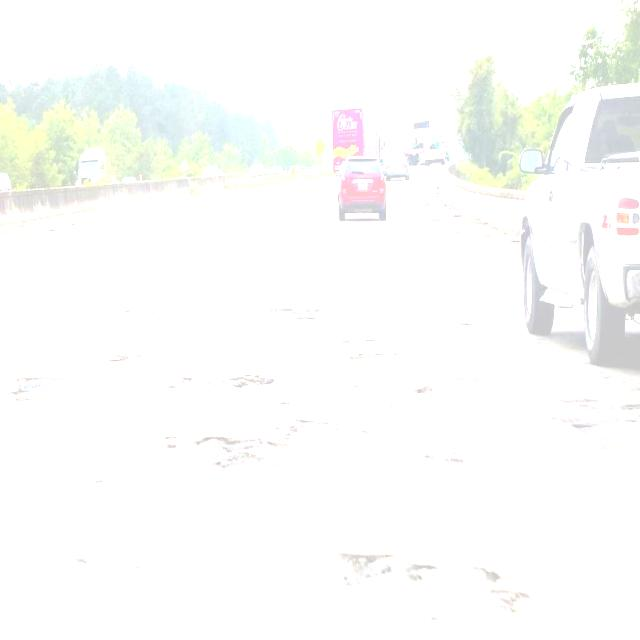Pothole: (4, 310, 640, 474), (333, 542, 538, 619)
